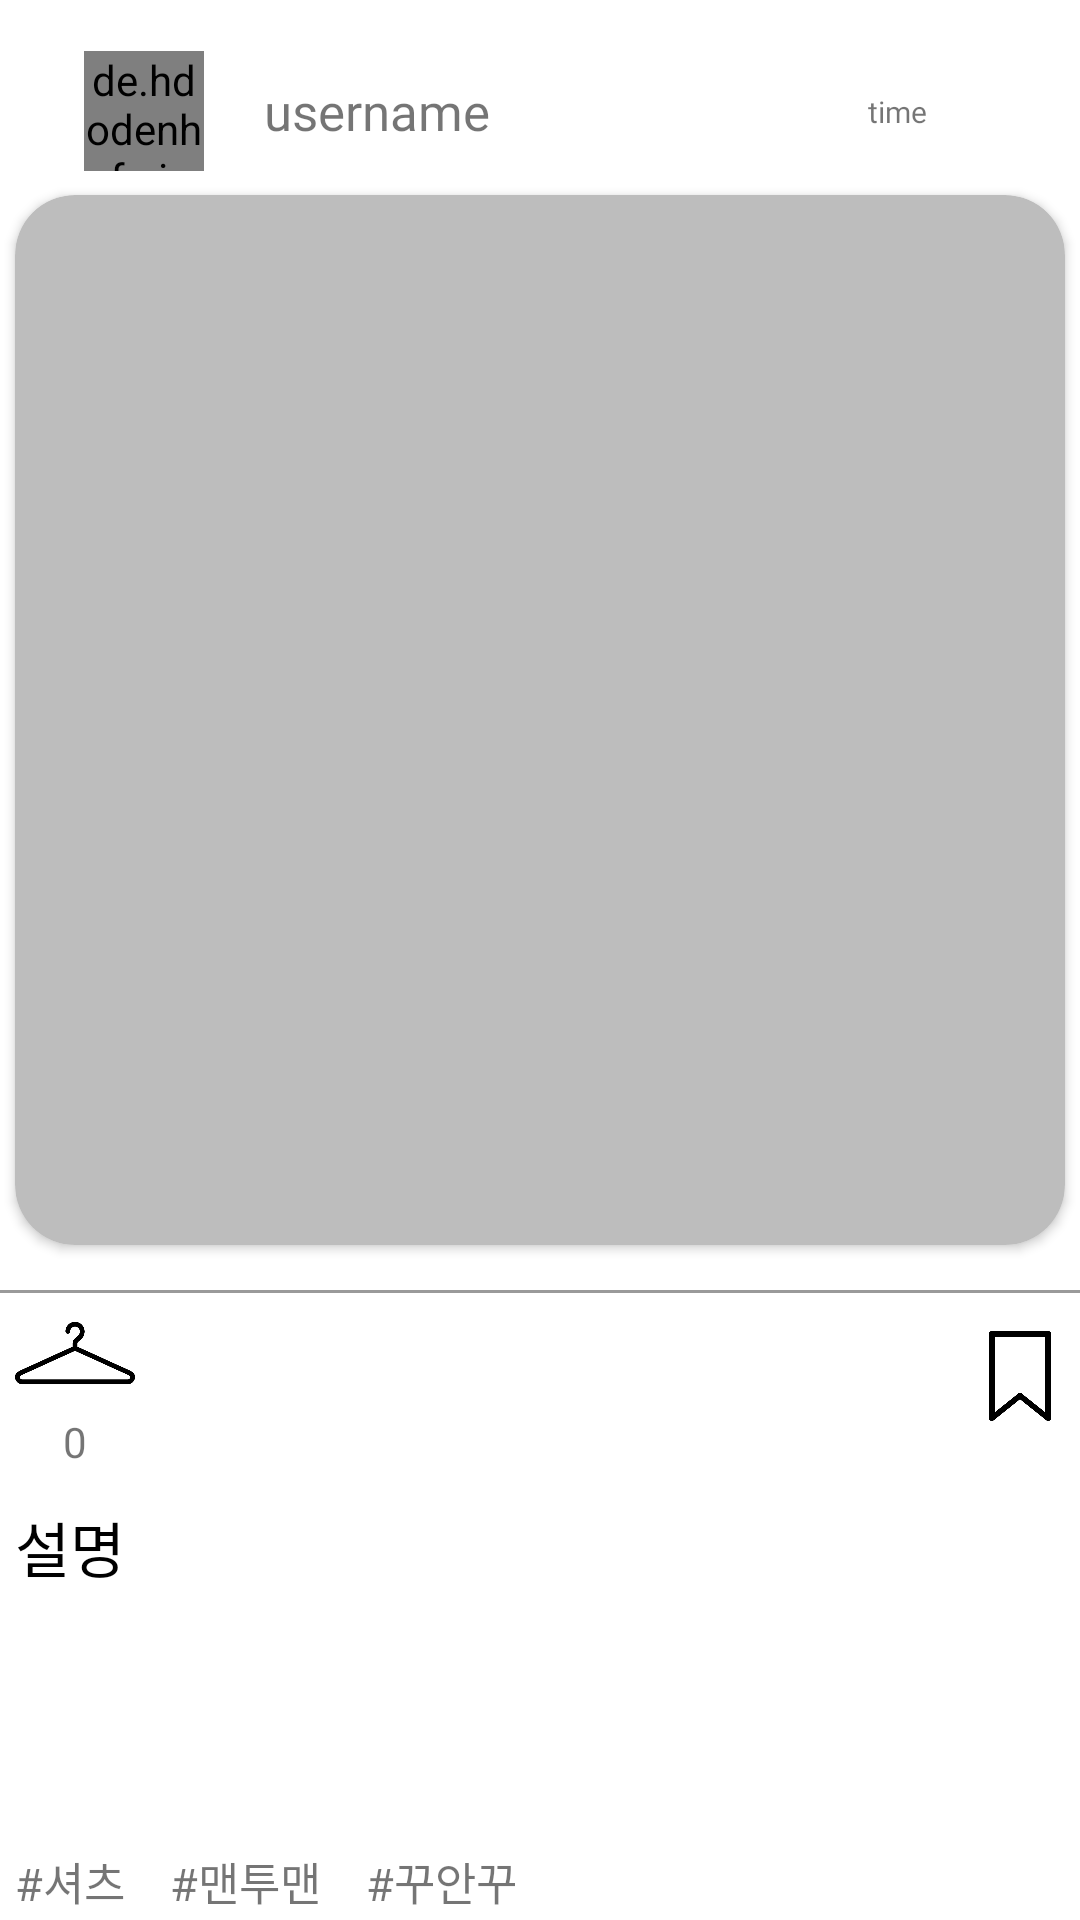

Point at icon controls on the screen. Image size 1080×1920, points as point (x, y).
hanger: point (75, 1353)
